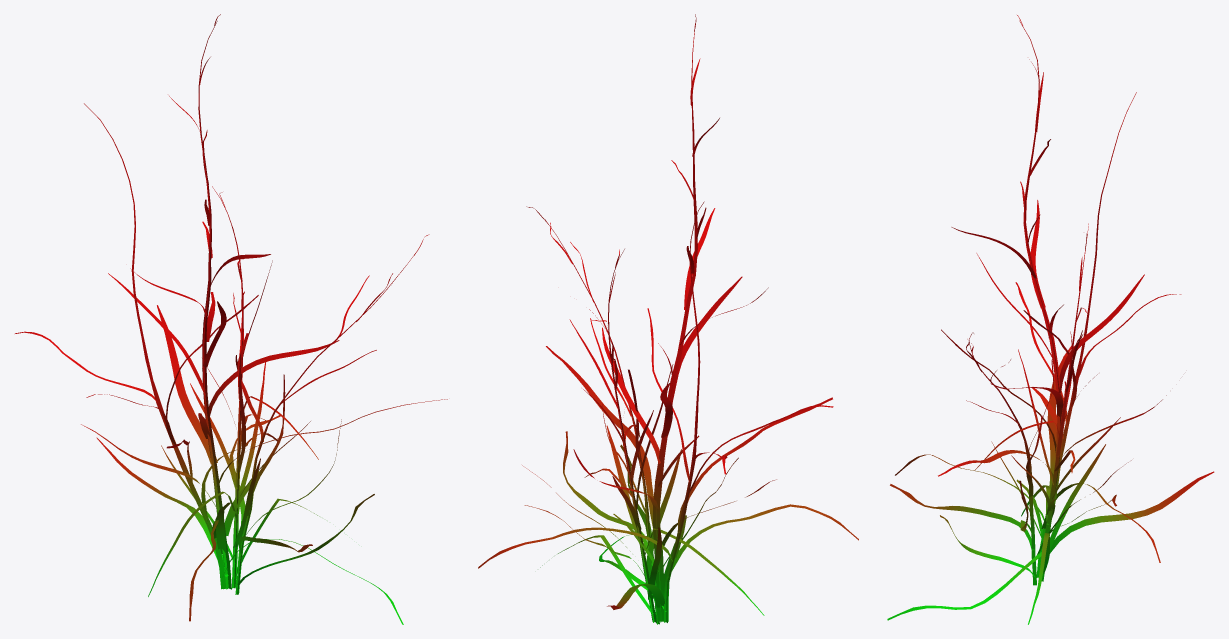
Rendered from Swamp Grass_LOD1_Var3_tefocd1r.fbx.
3 views of the same model, side by side, from view 1: azimuth 30°, elevation 25°; view 2: azimuth 150°, elevation 25°; view 3: azimuth 270°, elevation 25° (orthographic). The views are drawn at different scales.
Visible parts, largest first — view 1: merge1; view 2: merge1; view 3: merge1.
Boxes of the visible parts, x1,y1,x2,y2 form: merge1: (15,14,447,624); merge1: (478,14,858,624); merge1: (887,15,1214,624).
Size of the model in its own units: 43.49 by 76.7 by 40.68.
